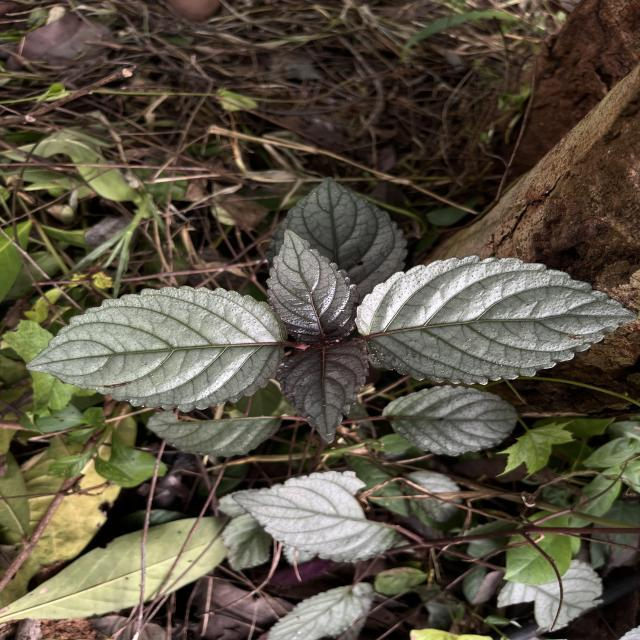Hemigraphis colorata: (351, 252, 640, 387), (21, 282, 290, 416), (263, 226, 361, 345), (378, 382, 523, 459), (272, 338, 373, 447)
